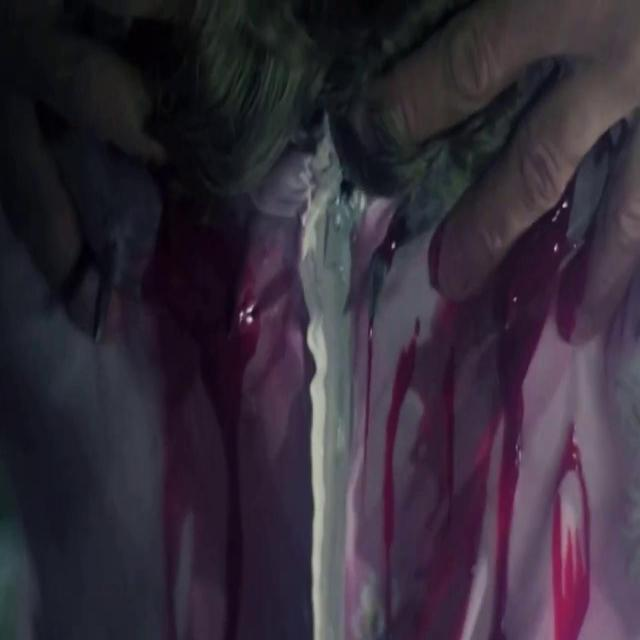flood: (365, 155, 598, 640), (133, 183, 263, 629)
